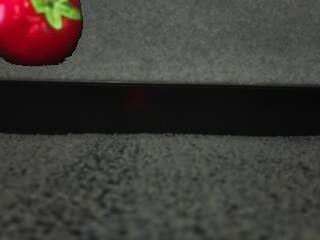Tomato: (0, 0, 85, 67)
